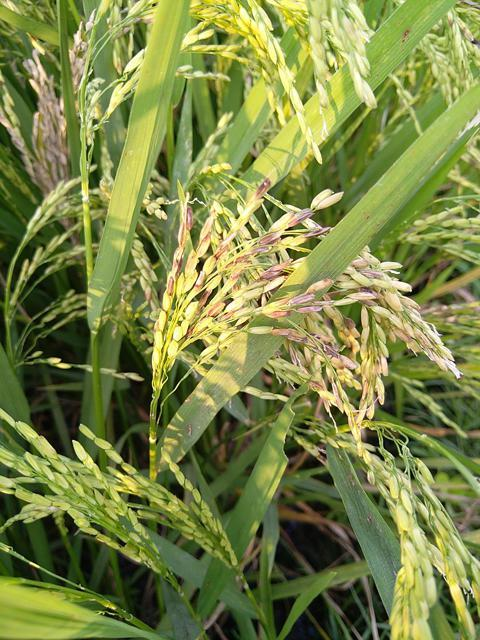Panicle Blight: (148, 179, 412, 445)
